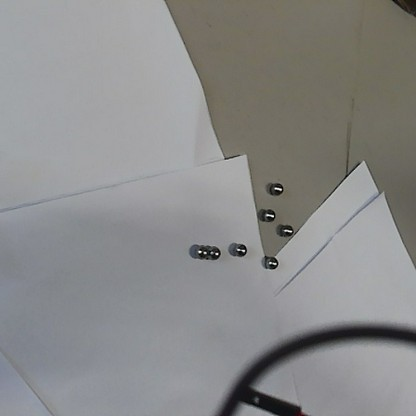ironball: (277, 221, 295, 237), (263, 253, 279, 271), (261, 206, 277, 223), (268, 181, 285, 196), (232, 240, 247, 257), (206, 244, 221, 261), (194, 244, 207, 259)
